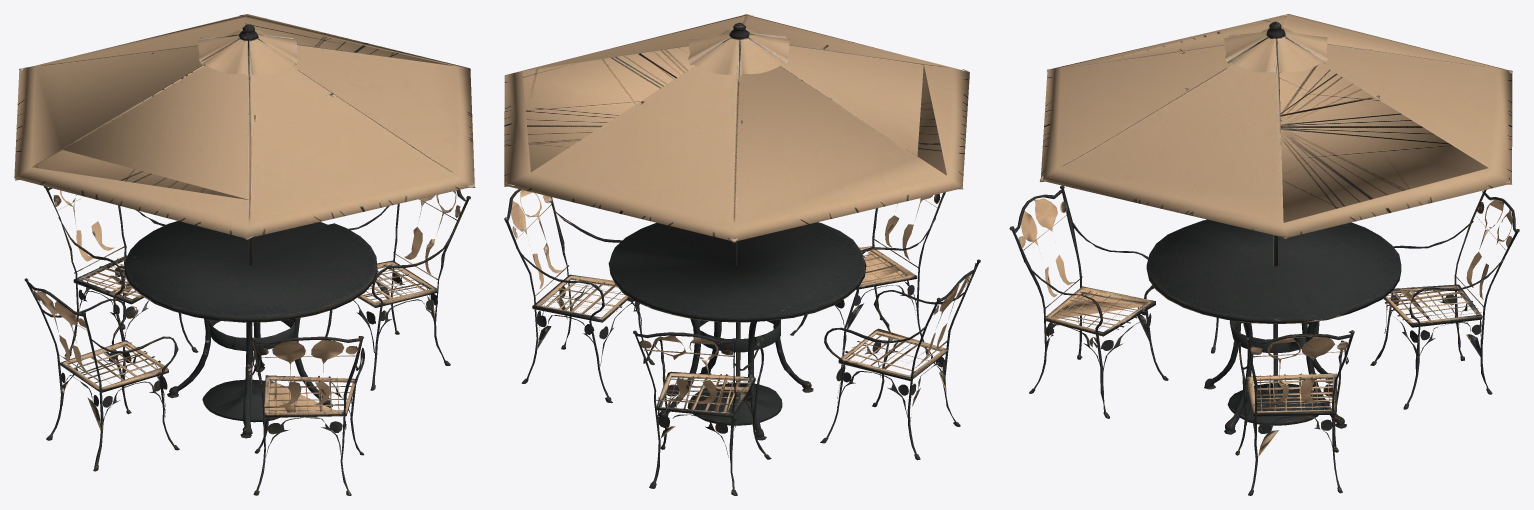
Rendered from patio_set.glb.
3 renders of one model, left to right at view 1: azimuth 30°, elevation 25°; view 2: azimuth 150°, elevation 25°; view 3: azimuth 270°, elevation 25°, orthographic.
Bounding box in the file's own units: 0.9575 × 0.7622 × 0.9214.
Materials: 1 (1 with a texture image).
